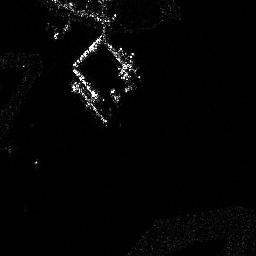ship: (69, 78, 108, 125), (109, 74, 143, 103)
